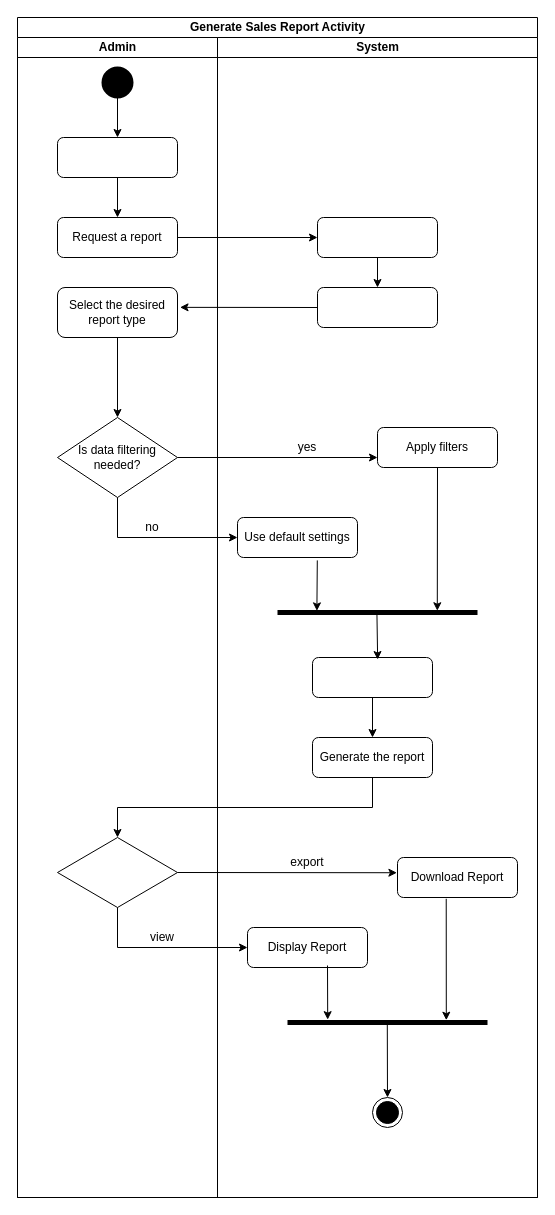
The diagram is 555 pixels wide and 1215 high, and some of its shapes have lost their labels. Here are the shapes that lost their labels. From the top down, the centre of each, then its label:
the point at 117,157: Login to system
the point at 377,237: identify user
the point at 377,307: Display availble reports types
the point at 372,677: Collect data
the point at 117,872: Export or View report?
